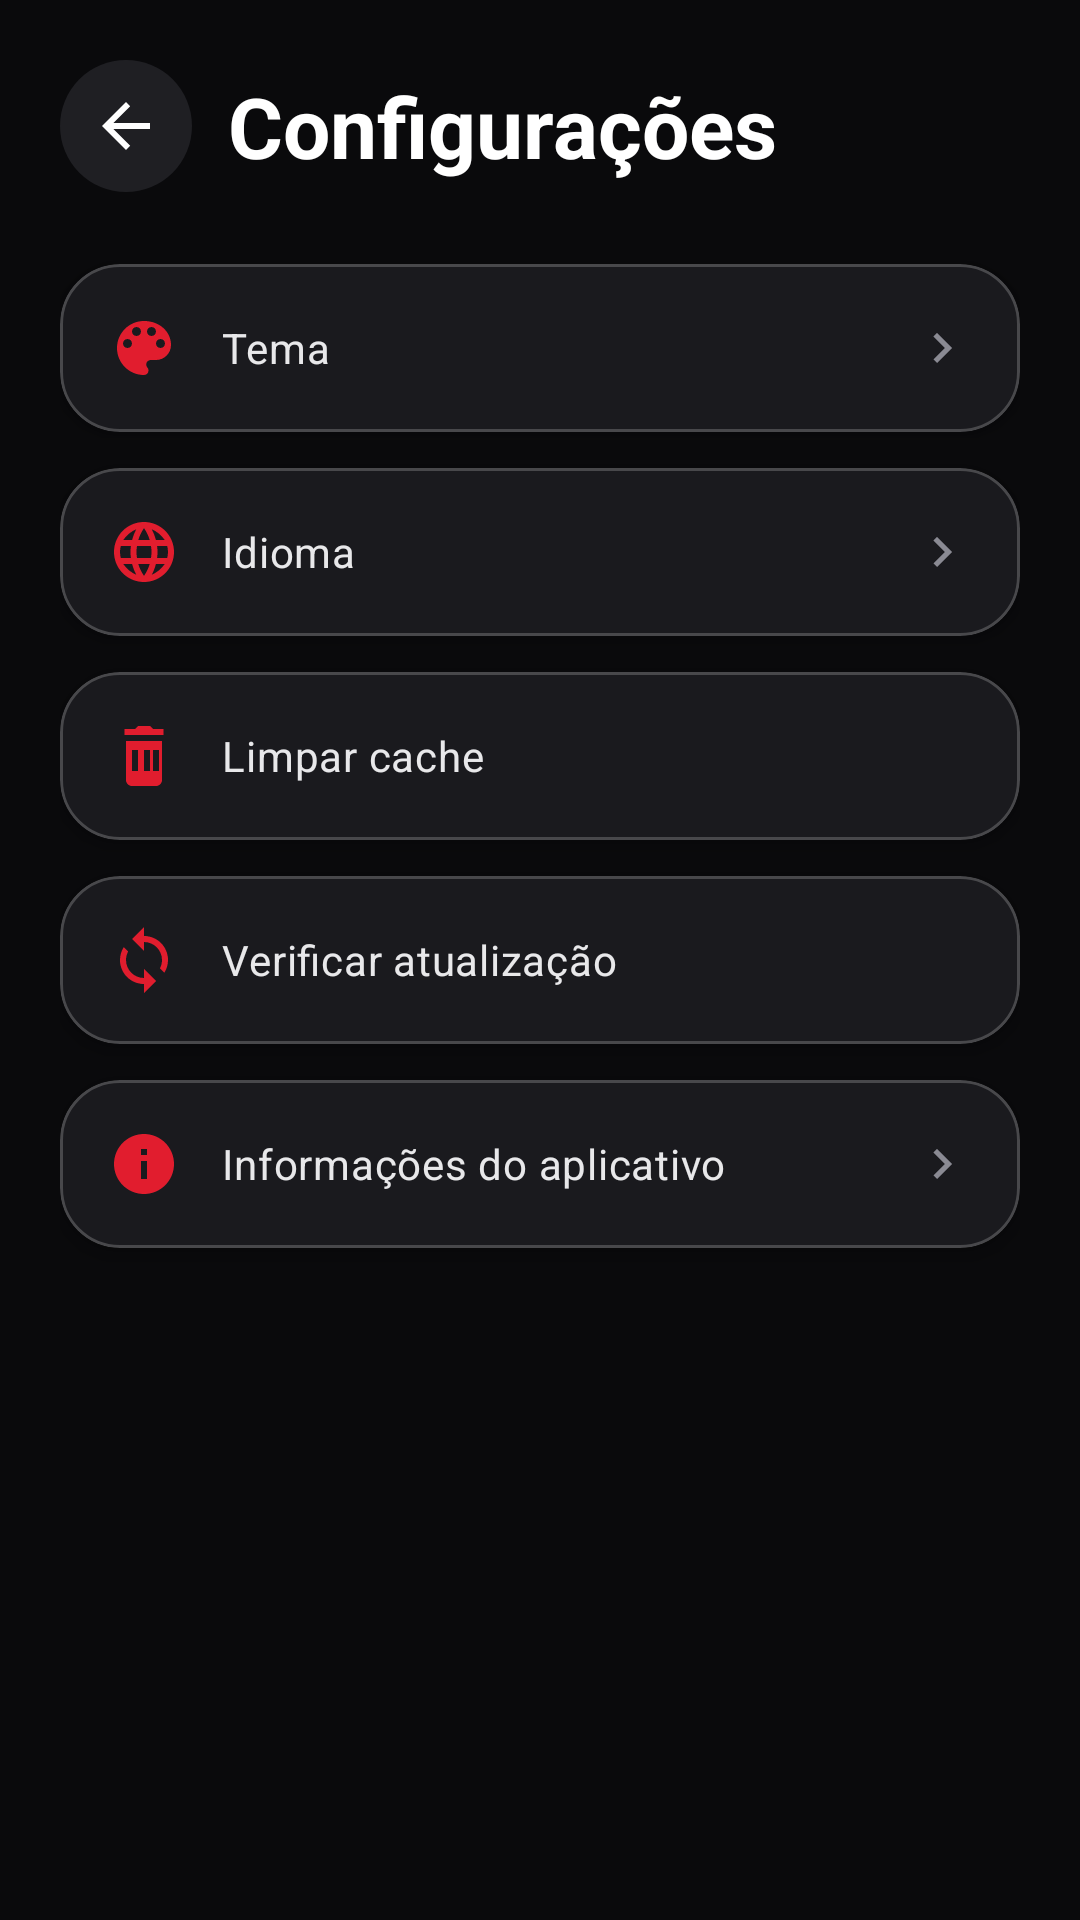

Screen size 1080*1920. Icon name, then its box in pixels as BBox(x1, y1, x2, y2):
chevron right: BBox(933, 333, 952, 363), BBox(933, 537, 952, 567), BBox(933, 1149, 952, 1179)
language: BBox(114, 522, 174, 582)
theme: BBox(117, 321, 171, 375)
update: BBox(120, 927, 168, 993)
